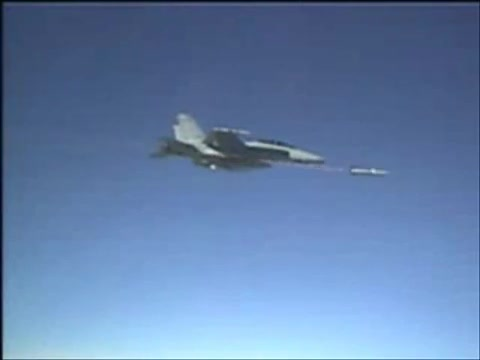aeroplane: (149, 113, 327, 174)
